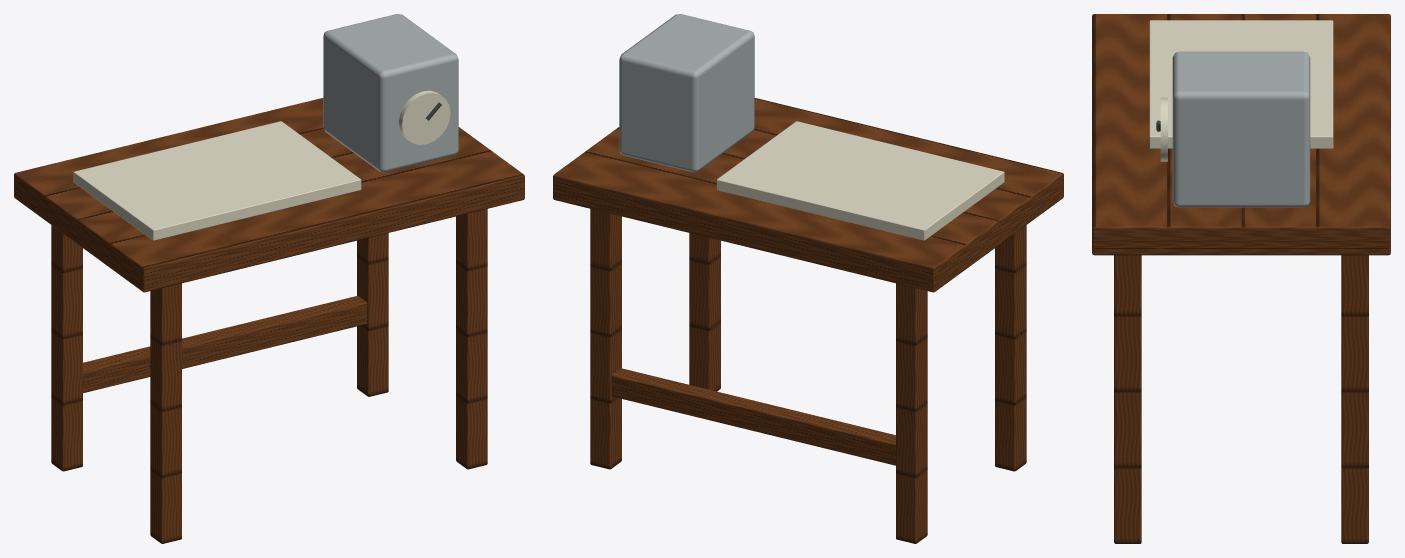
File: research-and-crafting-progression-component-analysis-t-d99dc1ae__2836.glb
3 views of the same model, side by side, from view 1: azimuth 30°, elevation 25°; view 2: azimuth 150°, elevation 25°; view 3: azimuth 270°, elevation 25° (orthographic). The views are drawn at different scales.
Parts seen in each view (by area): view 1: component-analysis-table; view 2: component-analysis-table; view 3: component-analysis-table.
Boxes of the visible parts, left/top/right/bottom form: component-analysis-table: left=14, top=14, right=524, bottom=543; component-analysis-table: left=553, top=14, right=1063, bottom=543; component-analysis-table: left=1092, top=14, right=1390, bottom=543.
Size of the model in its own units: 1.1 by 1.08 by 0.65.
4 materials, 1 textured.
